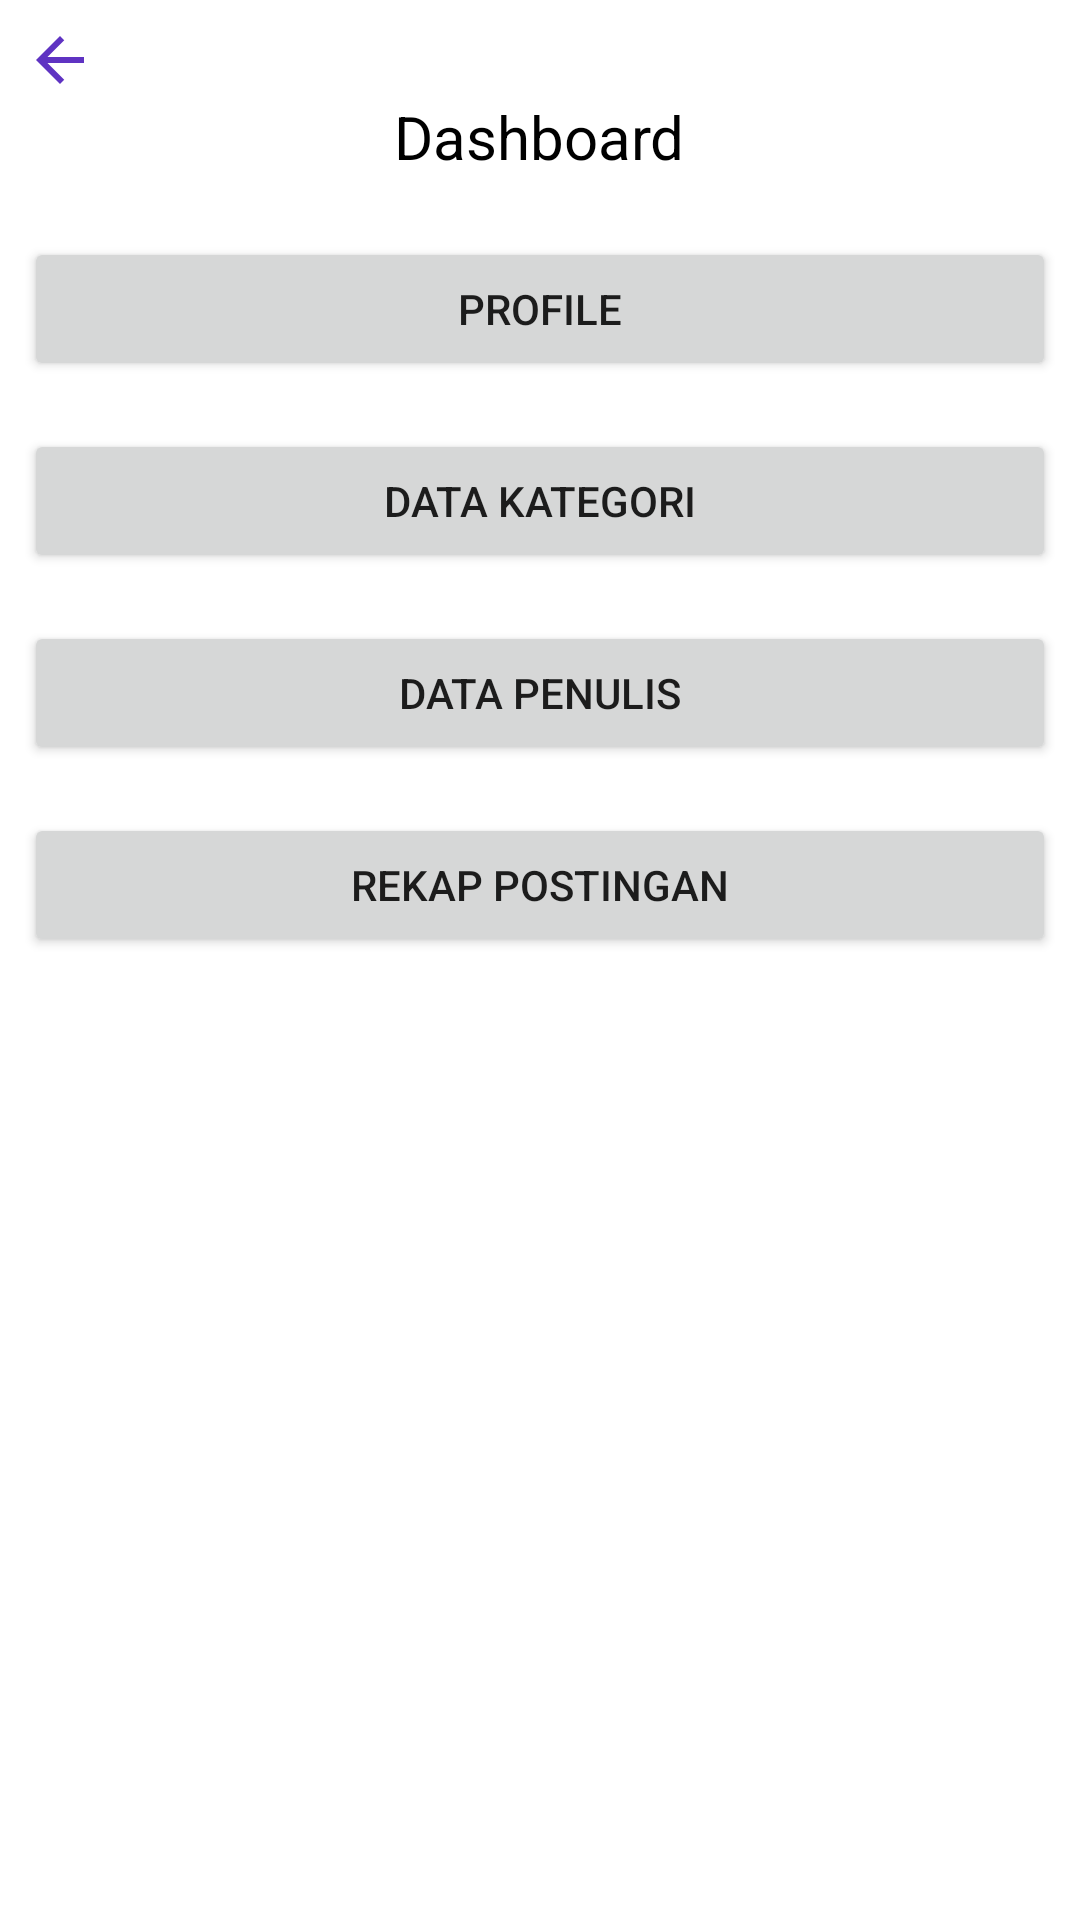

Where icons sit on this 1080 x 1920 app screen, as (x1, y1, x2, y2):
back: (36, 36, 84, 84)
